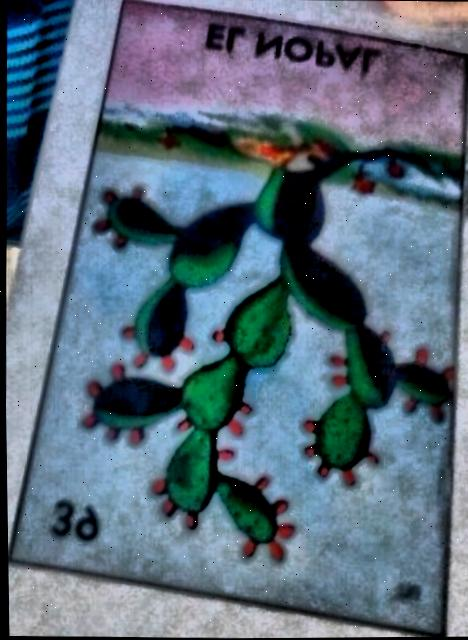El Nopal: (9, 0, 466, 633)
